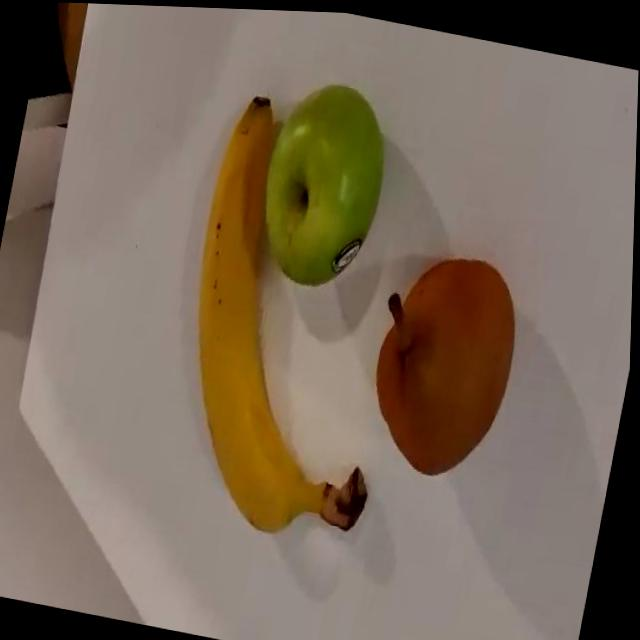Apple: (361, 240, 532, 486), (250, 72, 400, 296)
Banana: (155, 87, 440, 552)
